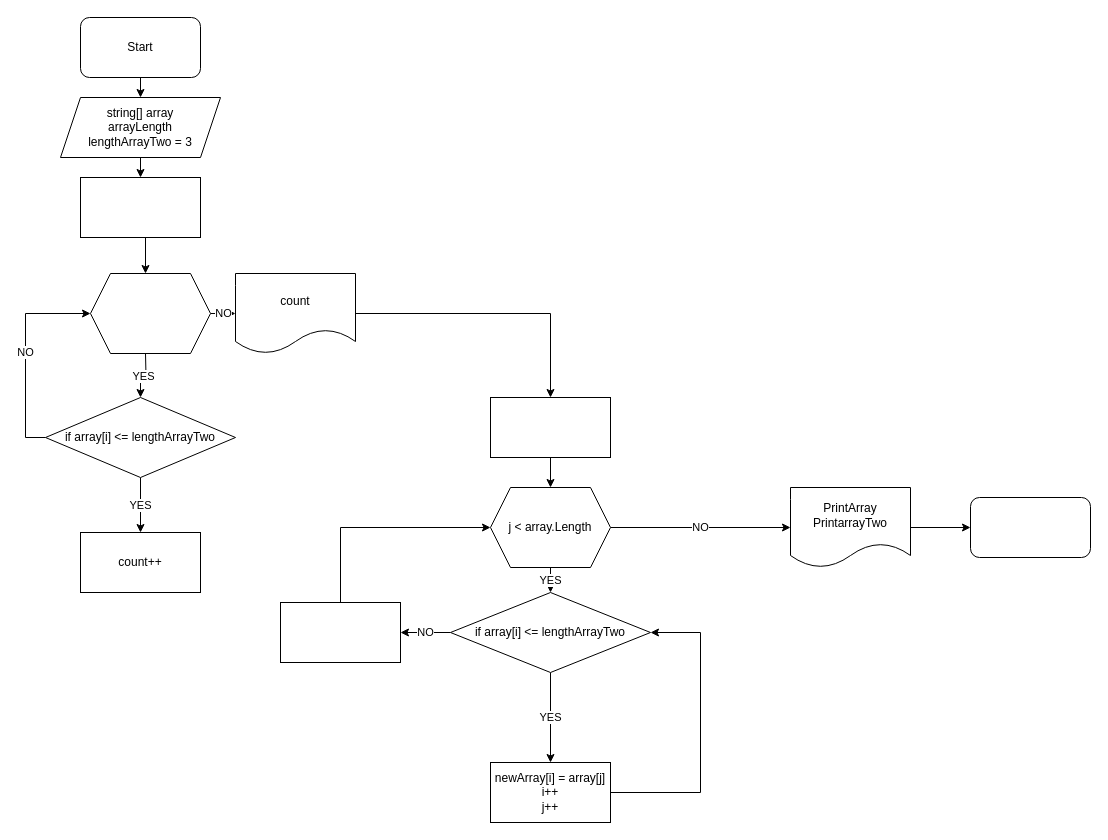
Image size: 1108x840. Some labels were removed from this diagram. The box of each missing label's shape, as (x1, y1, x2, y2) in pixels:
Finish: (970, 496, 1090, 558)
for i < array.Length: (90, 272, 210, 354)
int count = 0 int i = 0: (80, 176, 200, 238)
j++: (280, 602, 400, 662)
string[] newArray int i = 0 int j = 0: (490, 396, 610, 458)
